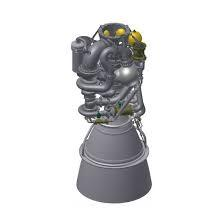thruster: (76, 114, 154, 205)
